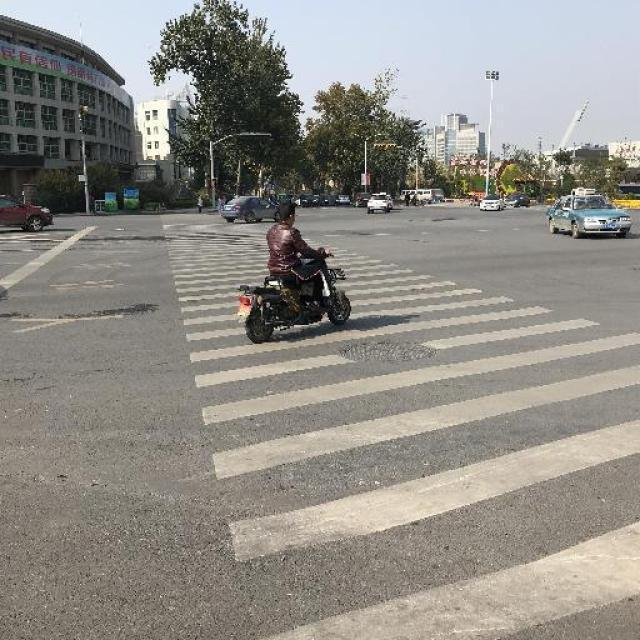crosswalk: (158, 210, 640, 640)
